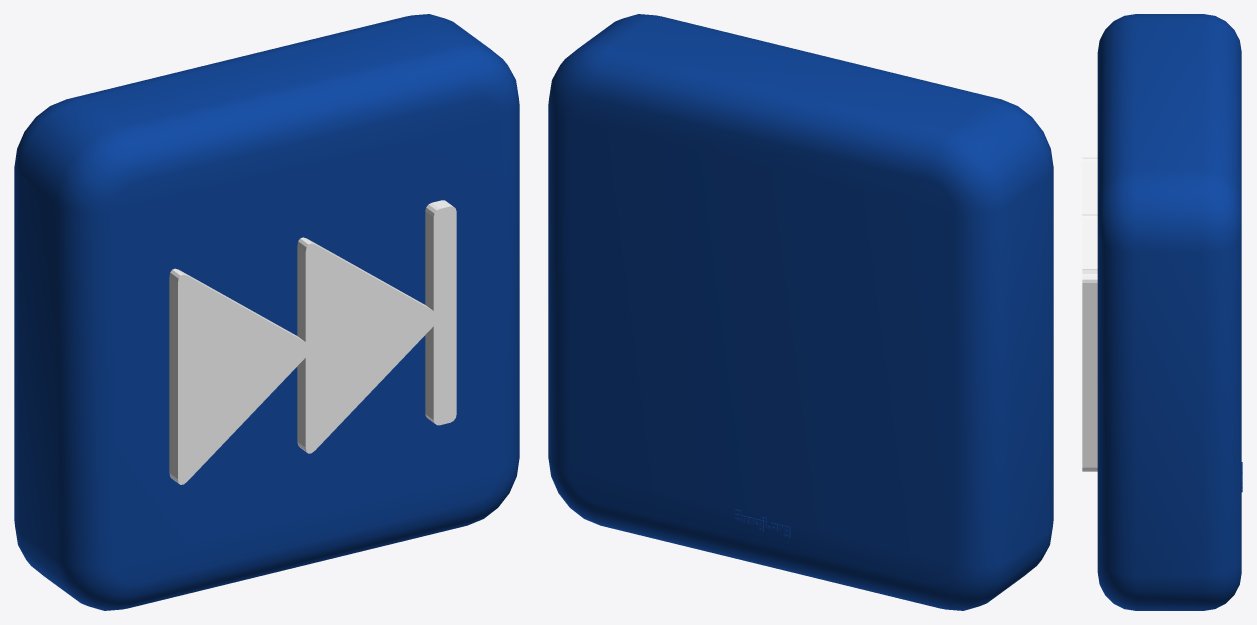
Rendered from next_track_button.fbx.
3 renders of one model, left to right at view 1: azimuth 30°, elevation 25°; view 2: azimuth 150°, elevation 25°; view 3: azimuth 270°, elevation 25°, orthographic. The views are drawn at different scales.
Visible parts, largest first — view 1: Cube.6421; view 2: Cube.6421; view 3: Cube.6421.
Part boxes in pixels (box(x1,y1,x2,y2)): Cube.6421: box(14, 14, 519, 610); Cube.6421: box(548, 14, 1053, 610); Cube.6421: box(1082, 14, 1242, 610).
Bounding box in the file's own units: 220 × 220 × 73.37.
1 material, 1 textured.
